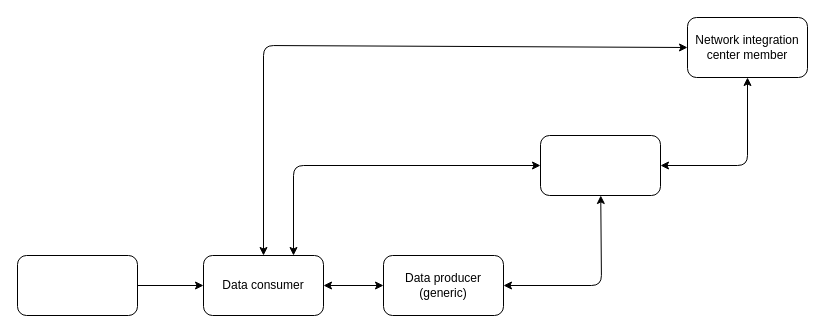
Image size: 825x333. Some labels were removed from this diagram. The shapes that lost their labels are listed below. From the top down, each one's centre as x and y in pixels, then its label:
pixel 600 165: Research center member
pixel 77 285: Visitor
